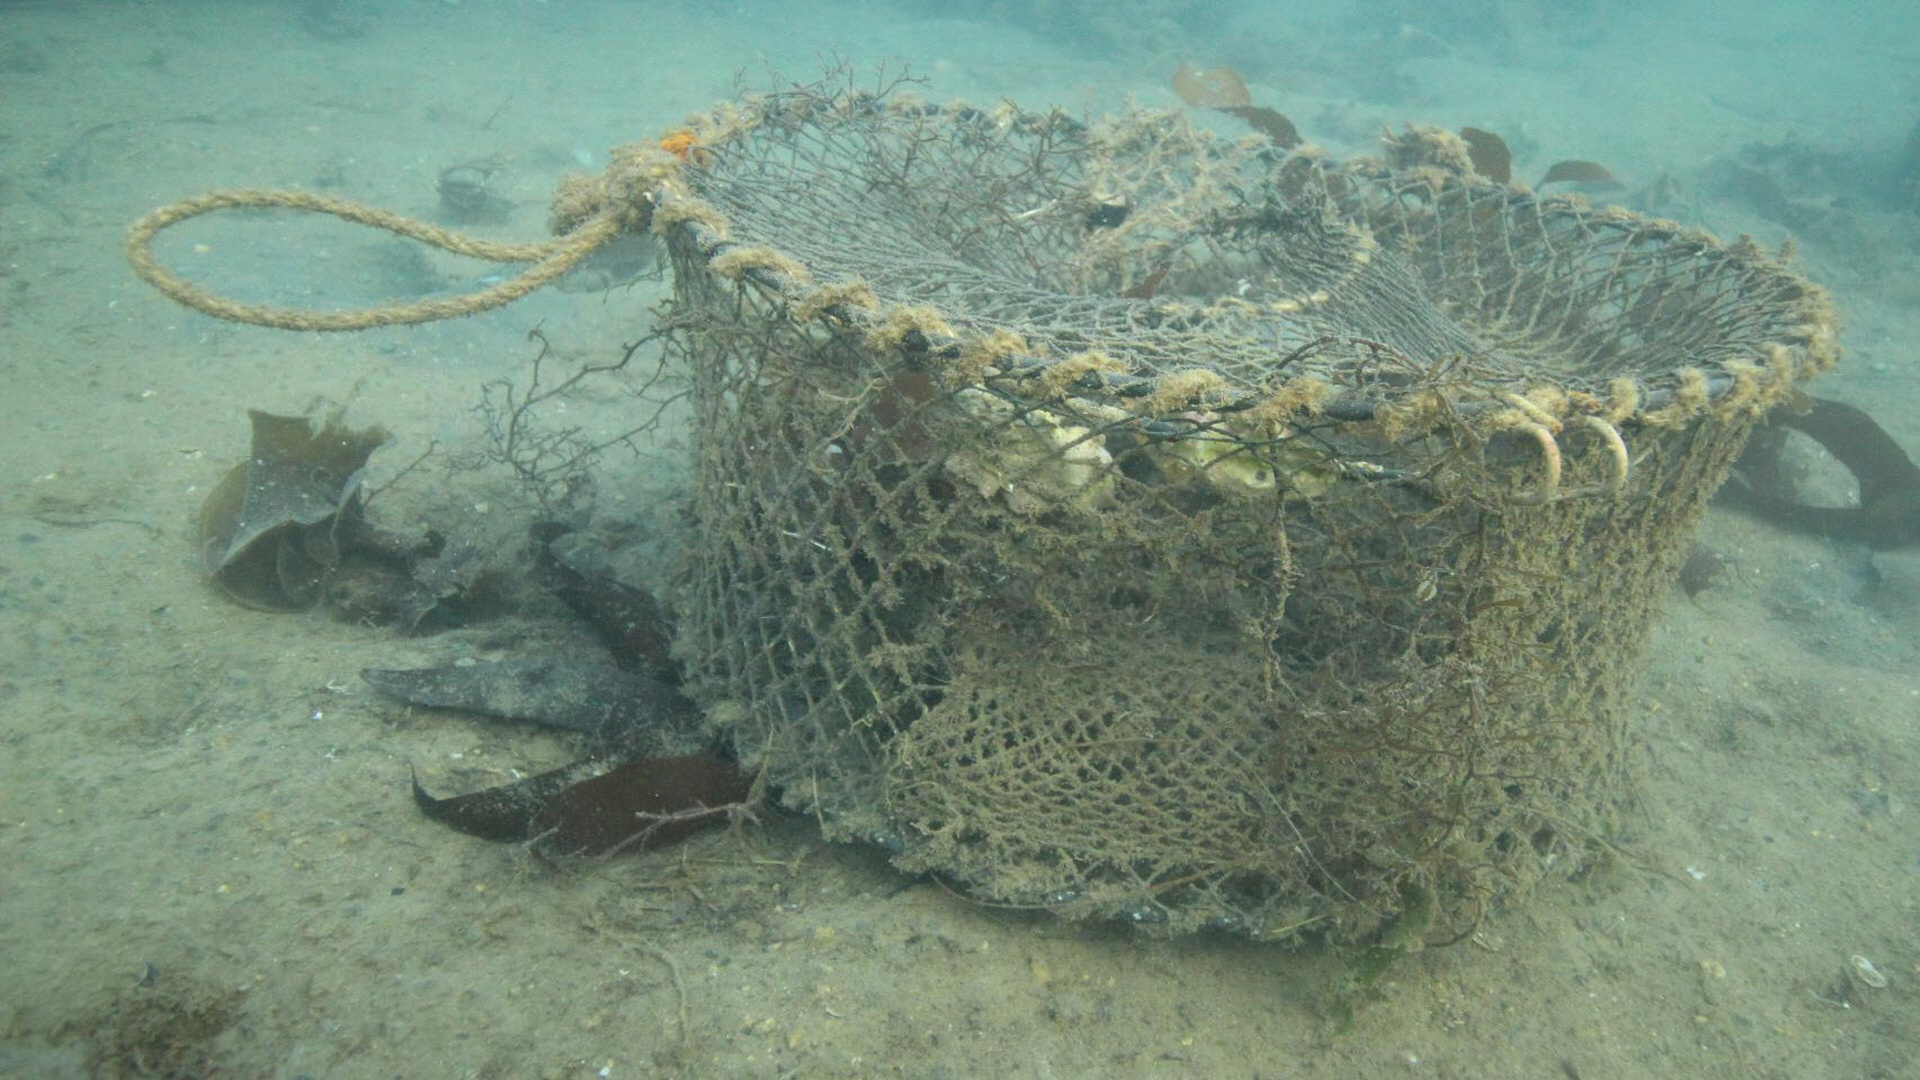bundle of ropes: (123, 142, 655, 328)
circular fish trap: (640, 84, 1837, 942)
